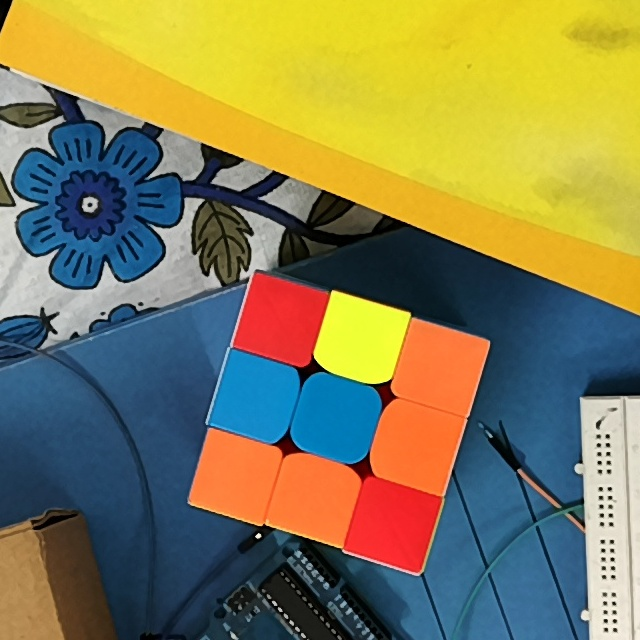tile: (284, 469, 345, 530), (408, 339, 471, 397), (383, 417, 446, 475), (204, 446, 263, 507), (364, 492, 422, 554), (306, 388, 367, 446), (250, 292, 312, 349), (329, 313, 390, 370), (226, 371, 285, 429)
